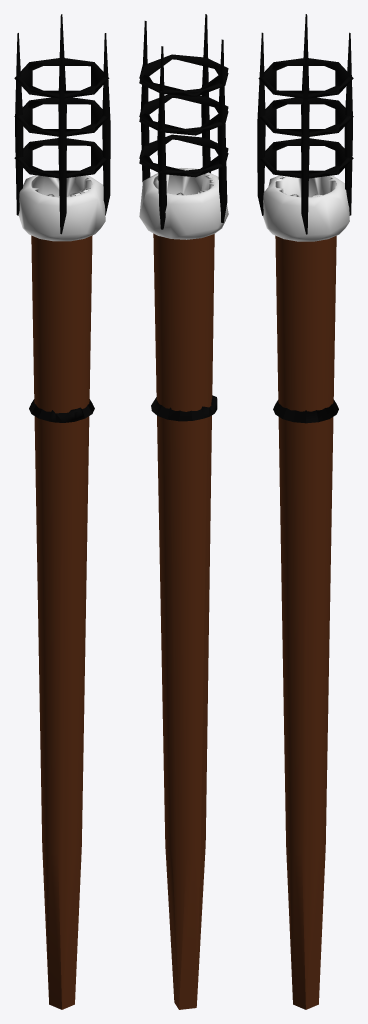
Rendered from Torch.fbx.
3 views of the same model, side by side, from view 1: azimuth 90°, elevation 25°; view 2: azimuth 150°, elevation 25°; view 3: azimuth 270°, elevation 25° (orthographic).
Visible parts, largest first — view 1: Torch; view 2: Torch; view 3: Torch.
Part boxes in pixels (x1,y1,x2,y2): Torch: (14,14,110,1009); Torch: (139,14,228,1009); Torch: (257,14,353,1009).
Size of the model in its own units: 31.83 by 349 by 31.41.
